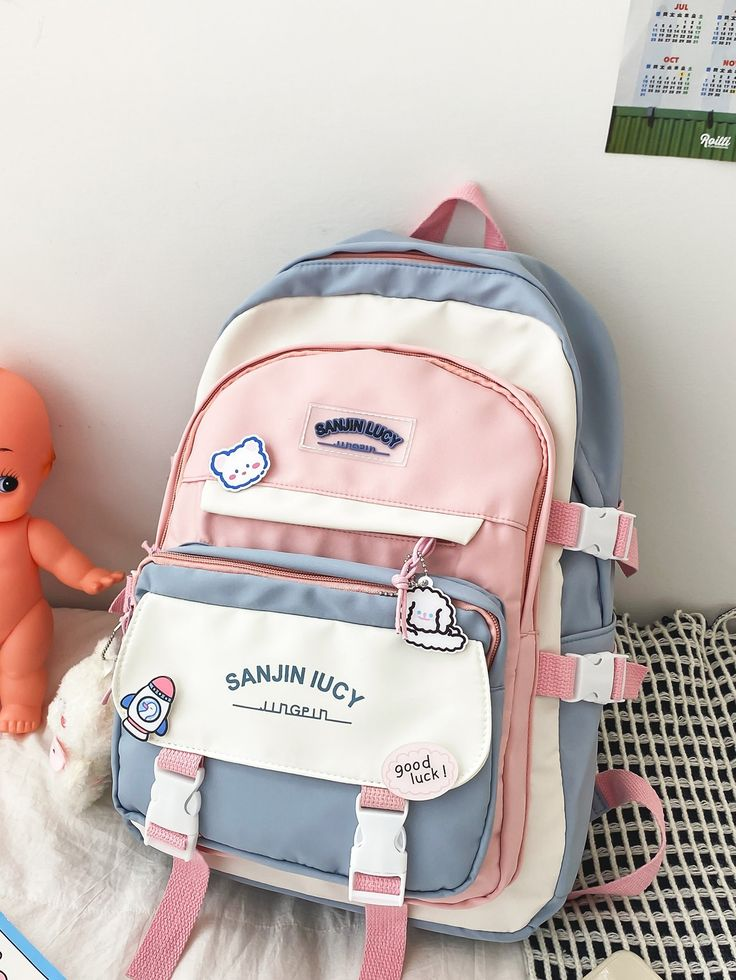nylon: (112, 231, 620, 947)
